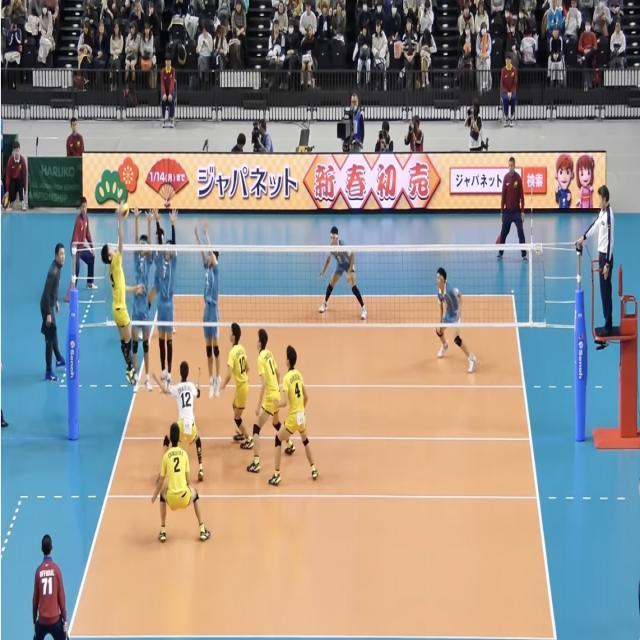spike: (99, 198, 142, 392)
